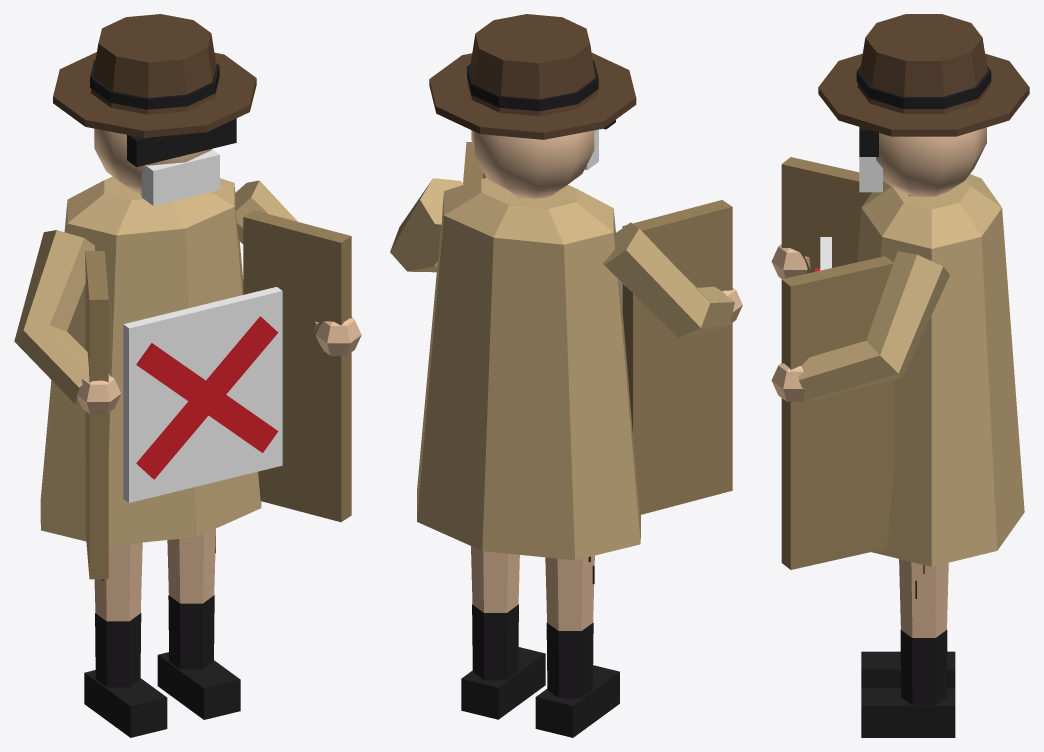
Rendered from e_pervert.glb.
3 views of the same model, side by side, from view 1: azimuth 30°, elevation 25°; view 2: azimuth 150°, elevation 25°; view 3: azimuth 270°, elevation 25° (orthographic).
Parts seen in each view (by area): view 1: pervert; view 2: pervert; view 3: pervert.
Boxes of the visible parts, bbox=[...] form: pervert: bbox=[14, 14, 361, 737]; pervert: bbox=[390, 14, 742, 737]; pervert: bbox=[771, 14, 1029, 737].
Size of the model in its own units: 0.9171 by 1.9 by 0.66.
